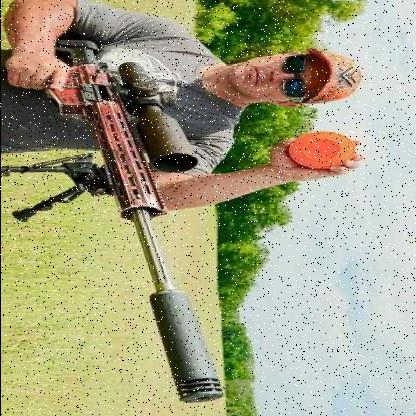rifle: (1, 53, 242, 394)
